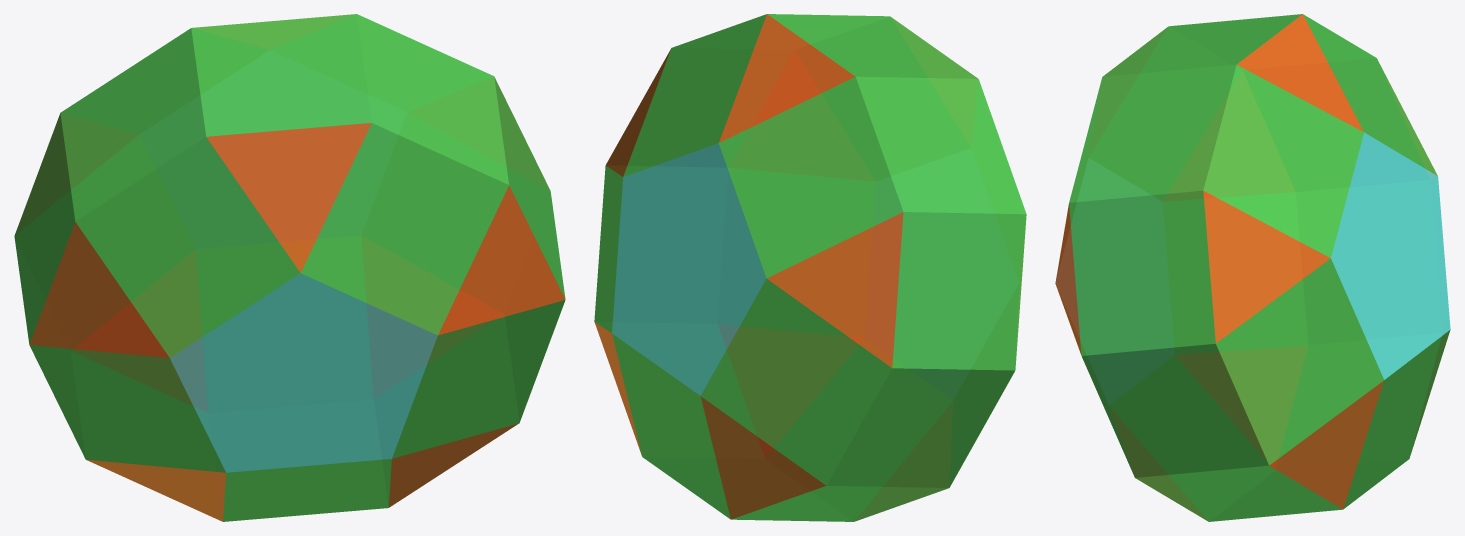
Rendered from j38_elongated_pentagonal_orthobicupola.obj.
3 renders of one model, left to right at view 1: azimuth 30°, elevation 25°; view 2: azimuth 150°, elevation 25°; view 3: azimuth 270°, elevation 25°, orthographic. The views are drawn at different scales.
Size of the model in its own units: 2.1 by 2.08 by 1.62.
